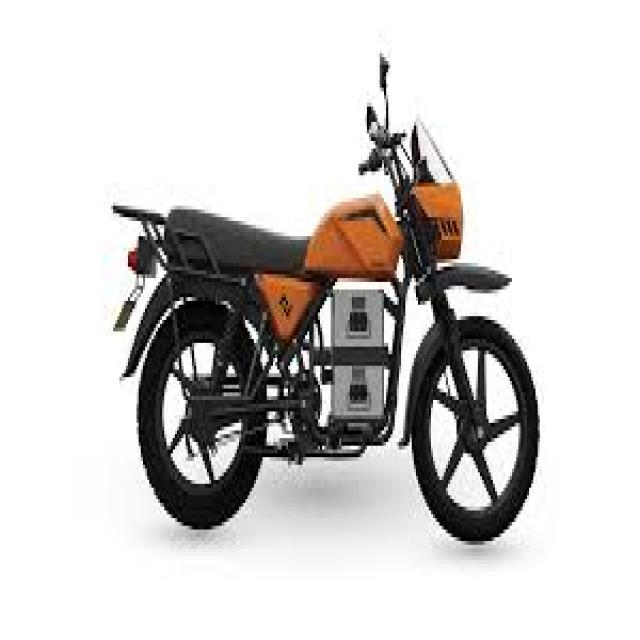bodaboda: (58, 45, 560, 571)
